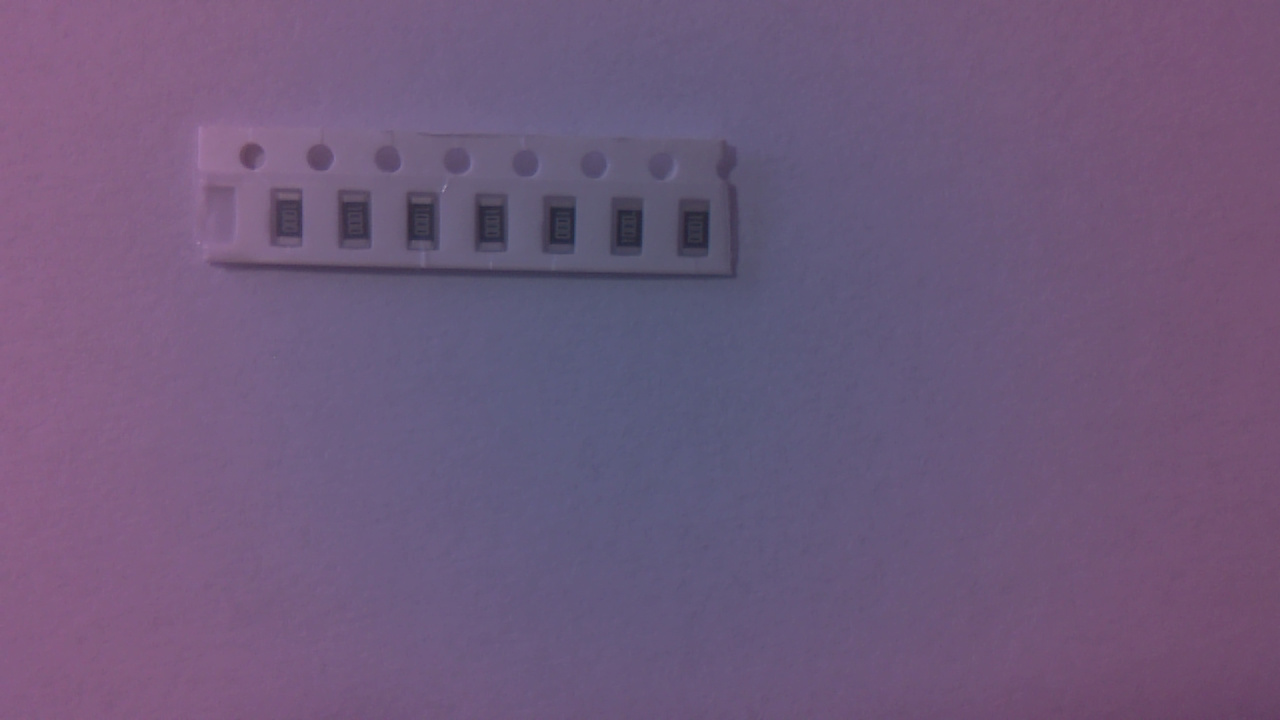Resistor: (479, 196, 514, 259), (343, 195, 379, 256), (410, 198, 446, 257), (615, 203, 651, 259), (550, 198, 582, 260), (276, 195, 308, 256), (683, 205, 717, 262)
